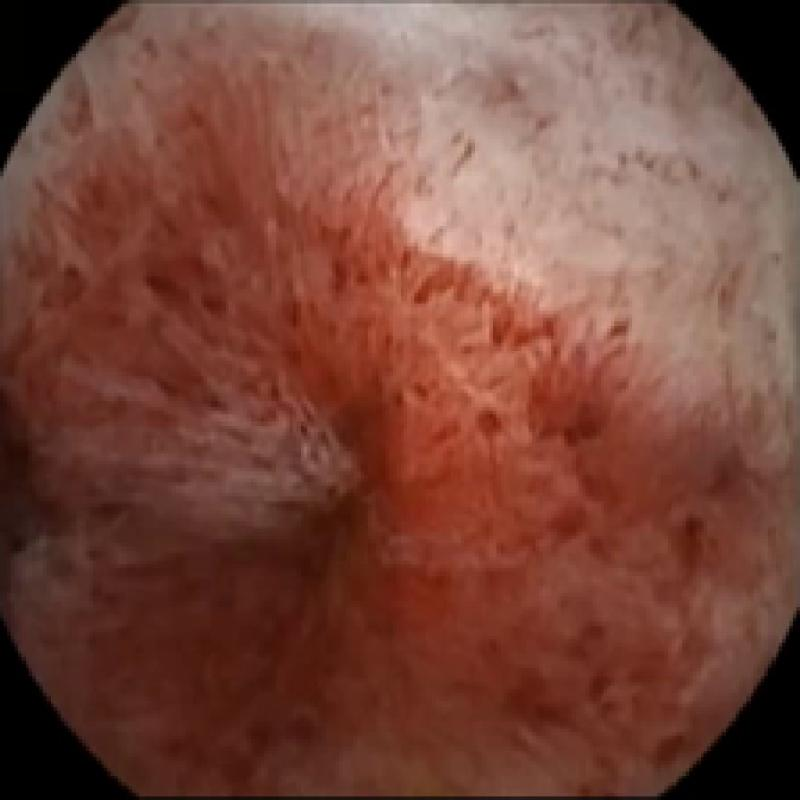bleeding: (0, 96, 746, 796)
